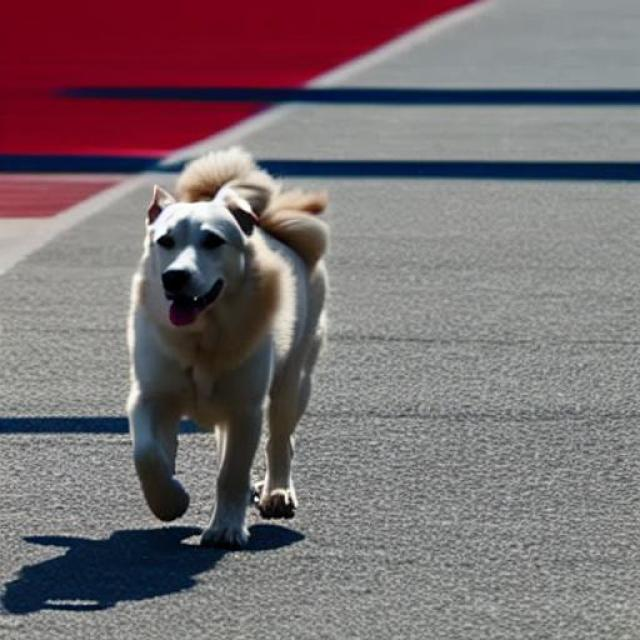Dog: (126, 145, 329, 547)
